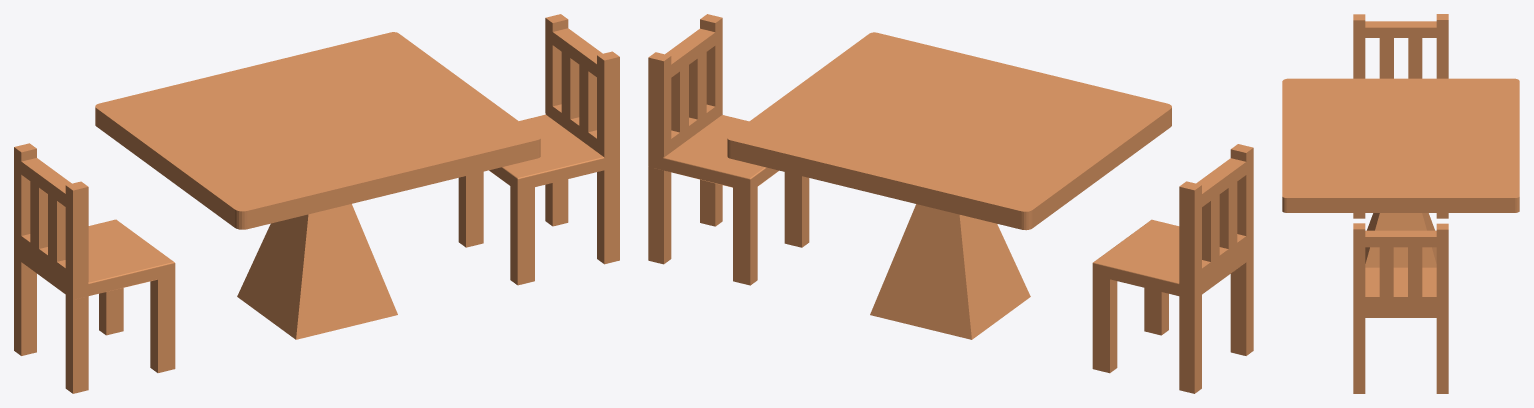
Rendered from Table and Chair.glb.
The picture shows the model from 3 angles, left to right: view 1: azimuth 30°, elevation 25°; view 2: azimuth 150°, elevation 25°; view 3: azimuth 270°, elevation 25°; orthographic projection. The views are drawn at different scales.
Visible parts, largest first — view 1: Table, Chair2, Chair; view 2: Table, Chair2, Chair; view 3: Table, Chair, Chair2.
Boxes of the visible parts, <box> form: Table: <box>95,32,540,339</box>; Chair2: <box>14,143,175,393</box>; Chair: <box>458,14,619,285</box>; Table: <box>727,32,1171,339</box>; Chair2: <box>1092,144,1253,393</box>; Chair: <box>648,14,809,285</box>; Table: <box>1282,78,1519,267</box>; Chair: <box>1353,223,1448,393</box>; Chair2: <box>1353,14,1448,218</box>.
Bounding box in the file's own units: 10.7 × 3.82 × 4.99.
